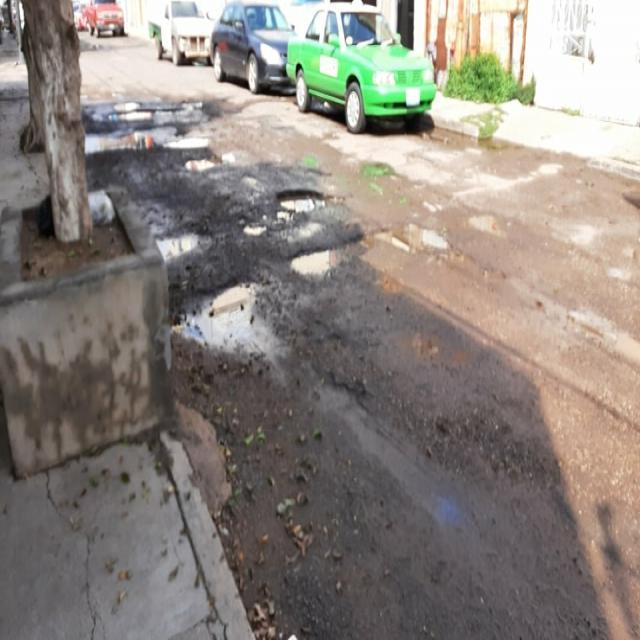pothole: (212, 155, 392, 319), (177, 199, 277, 371), (111, 79, 231, 201)
